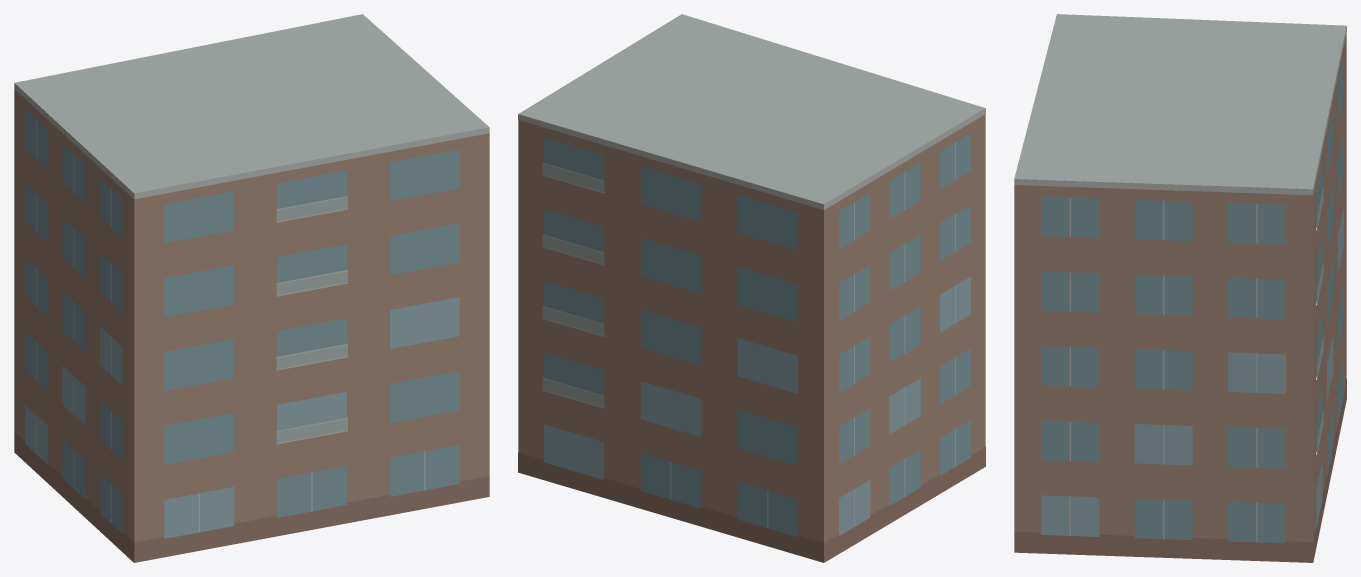
File: survey-upis-32883066.glb
3 views of the same model, side by side, from view 1: azimuth 30°, elevation 25°; view 2: azimuth 150°, elevation 25°; view 3: azimuth 270°, elevation 25° (orthographic). The views are drawn at different scales.
Visible parts, largest first — view 1: survey-upis-32883066.tmp; view 2: survey-upis-32883066.tmp; view 3: survey-upis-32883066.tmp.
Boxes of the visible parts, x1,y1,x2,y2 form: survey-upis-32883066.tmp: (14, 14, 489, 562); survey-upis-32883066.tmp: (518, 14, 985, 562); survey-upis-32883066.tmp: (1014, 14, 1346, 562).
Bounding box in the file's own units: 15.36 × 15.25 × 12.32.
